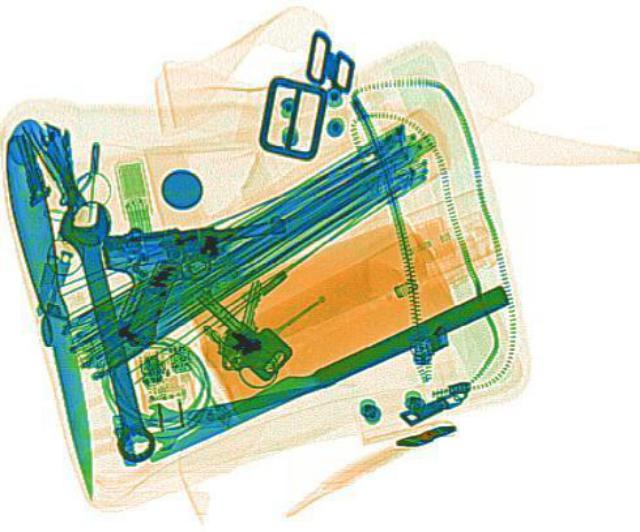Gun: (94, 213, 298, 345)
Knife: (133, 281, 511, 462), (0, 139, 108, 498), (134, 364, 342, 451)
Wrench: (51, 199, 165, 461)
